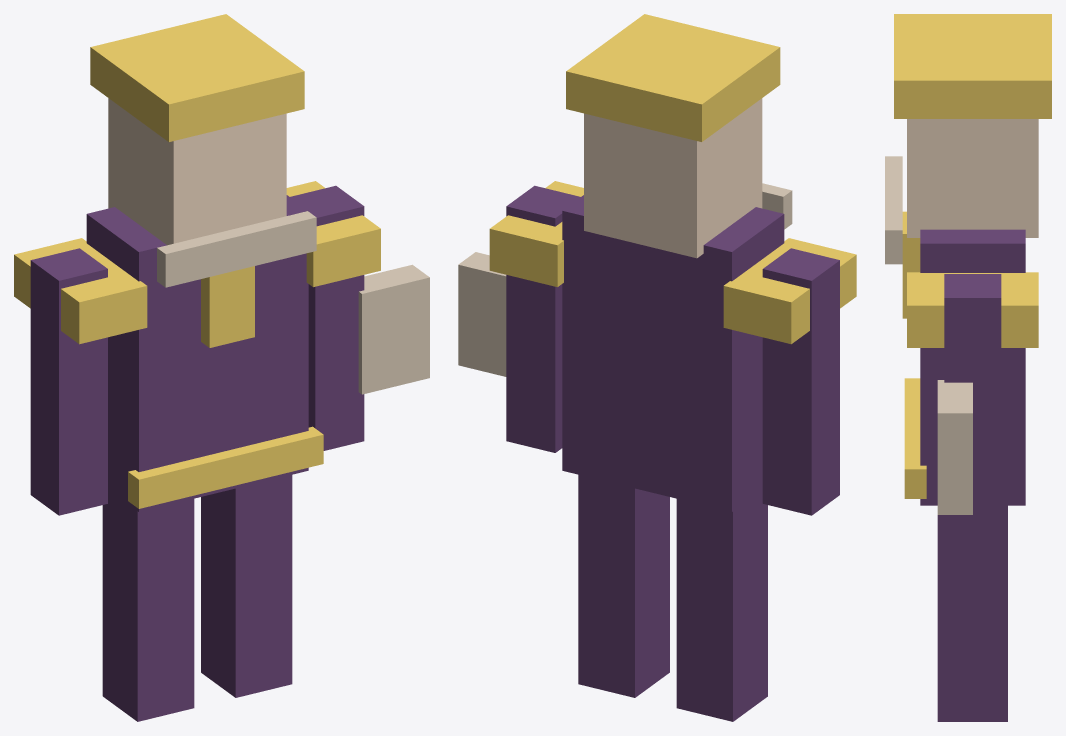
Rendered from 01_astra_echohand_keeper_at_service.glb.
3 views of the same model, side by side, from view 1: azimuth 30°, elevation 25°; view 2: azimuth 150°, elevation 25°; view 3: azimuth 270°, elevation 25° (orthographic).
Visible parts, largest first — view 1: Astra Echohand, Keeper at Service; view 2: Astra Echohand, Keeper at Service; view 3: Astra Echohand, Keeper at Service.
Boxes of the visible parts, x1,y1,x2,y2 form: Astra Echohand, Keeper at Service: (14, 14, 429, 721); Astra Echohand, Keeper at Service: (458, 14, 856, 721); Astra Echohand, Keeper at Service: (885, 14, 1051, 721).
Size of the model in its own units: 0.919 by 1.51 by 0.3582.
